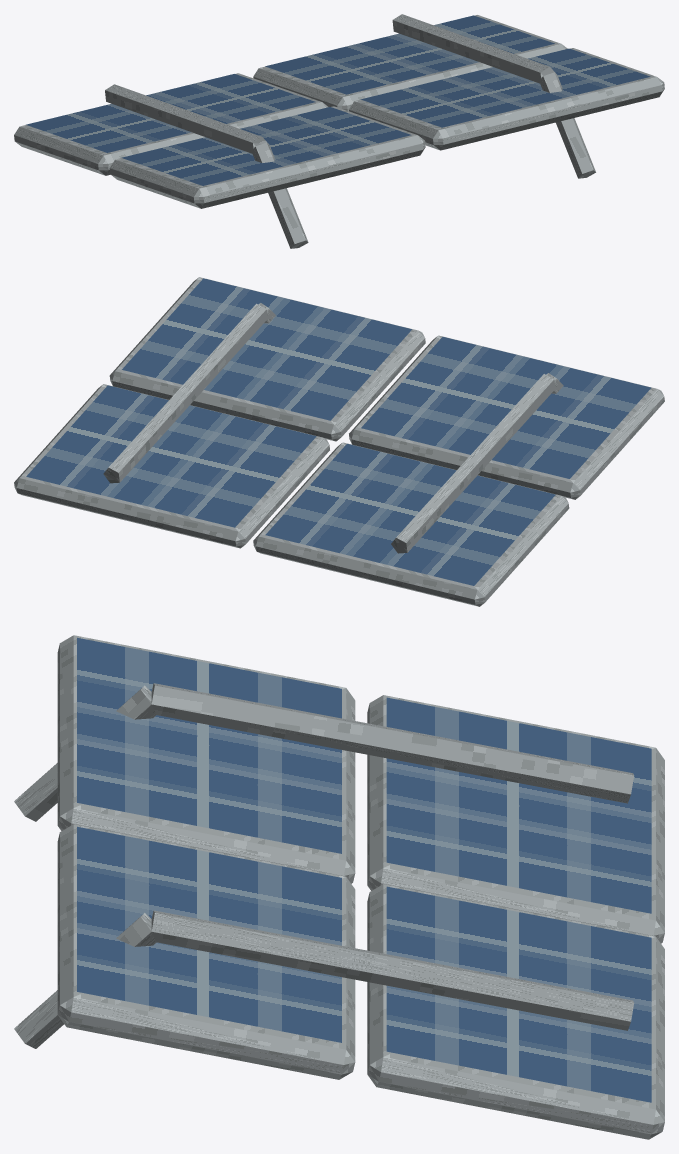
The model's file is ground_solar_panel.glb.
3 views of the same model, one above another, from view 1: azimuth 30°, elevation 25°; view 2: azimuth 150°, elevation 25°; view 3: azimuth 270°, elevation 25° (orthographic). The views are drawn at different scales.
Parts seen in each view (by area): view 1: block_blue photovoltaic cells (×4), block_panel frame (×4), block_rear folding kickstand 0 (×2), block_rear folding kickstand 1 (×2); view 2: block_blue photovoltaic cells (×4), block_panel frame (×4), block_rear folding kickstand 0 (×2); view 3: block_blue photovoltaic cells (×4), block_panel frame (×4), block_rear folding kickstand 0 (×2), block_rear folding kickstand 1 (×2).
Boxes of the visible parts, x1=… form: block_blue photovoltaic cells (×4): x1=26, y1=15, x2=650, y2=185; block_panel frame (×4): x1=14, y1=15, x2=664, y2=208; block_rear folding kickstand 0 (×2): x1=105, y1=14, x2=555, y2=154; block_rear folding kickstand 1 (×2): x1=251, y1=72, x2=595, y2=248; block_blue photovoltaic cells (×4): x1=26, y1=278, x2=650, y2=585; block_panel frame (×4): x1=14, y1=277, x2=664, y2=606; block_rear folding kickstand 0 (×2): x1=103, y1=303, x2=555, y2=553; block_blue photovoltaic cells (×4): x1=77, y1=637, x2=651, y2=1102; block_panel frame (×4): x1=57, y1=635, x2=664, y2=1139; block_rear folding kickstand 0 (×2): x1=151, y1=683, x2=634, y2=1030; block_rear folding kickstand 1 (×2): x1=14, y1=685, x2=156, y2=1048.
Bounding box in the file's own units: 1 × 0.2031 × 0.7399.
Materials: 1 (1 with a texture image).
